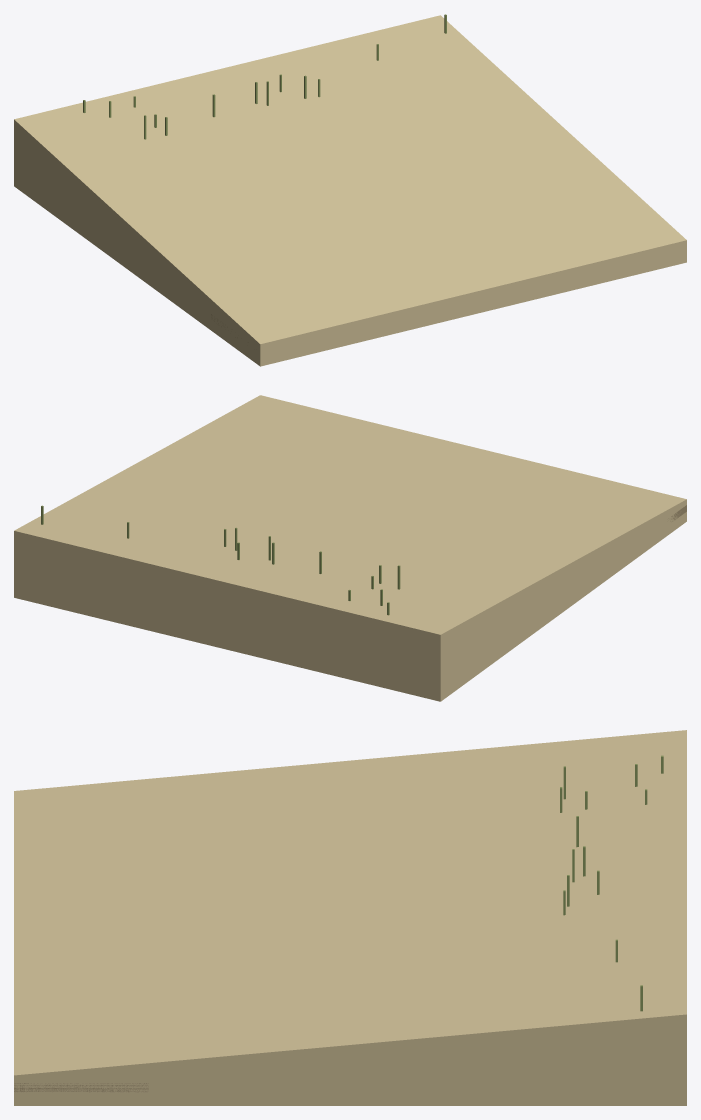
Rendered from f06-bank-sand-shelf.glb.
The picture shows the model from 3 angles, top to bottom: view 1: azimuth 30°, elevation 25°; view 2: azimuth 150°, elevation 25°; view 3: azimuth 270°, elevation 25°; orthographic projection. The views are drawn at different scales.
Visible parts, largest first — view 1: part0, part2; view 2: part0, part2; view 3: part0, part2, part1.
Part boxes in pixels (x1,y1,x2,y2): part0: [14, 15, 686, 366]; part2: [83, 14, 446, 139]; part0: [14, 395, 686, 701]; part2: [41, 505, 400, 615]; part0: [14, 730, 686, 1105]; part2: [560, 755, 663, 1011]; part1: [14, 1083, 148, 1092].
Bounding box in the file's own units: 8000 × 1491 × 8000.
